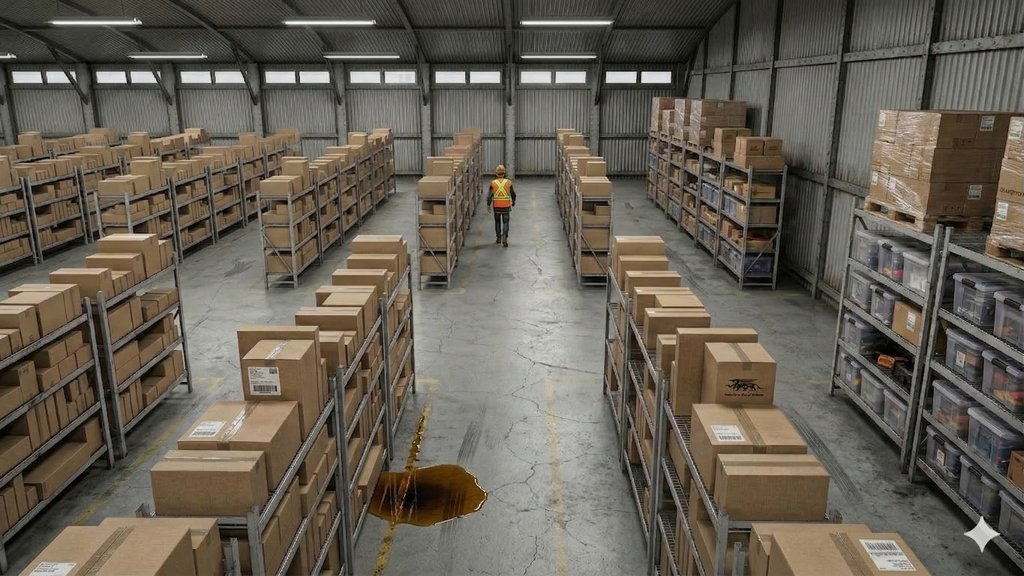person: (477, 159, 529, 261)
safety_helmet: (494, 164, 509, 176)
safety_vest: (493, 178, 517, 210)
spill: (360, 424, 519, 549)
